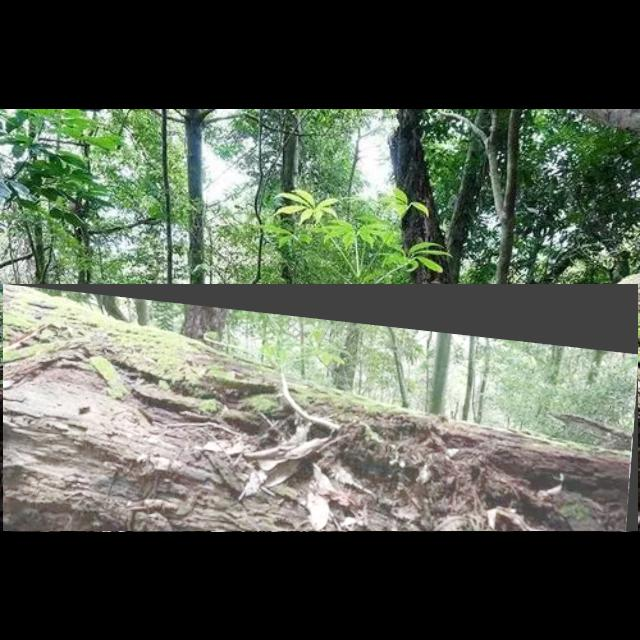Fallen Tree: (3, 284, 639, 532)
